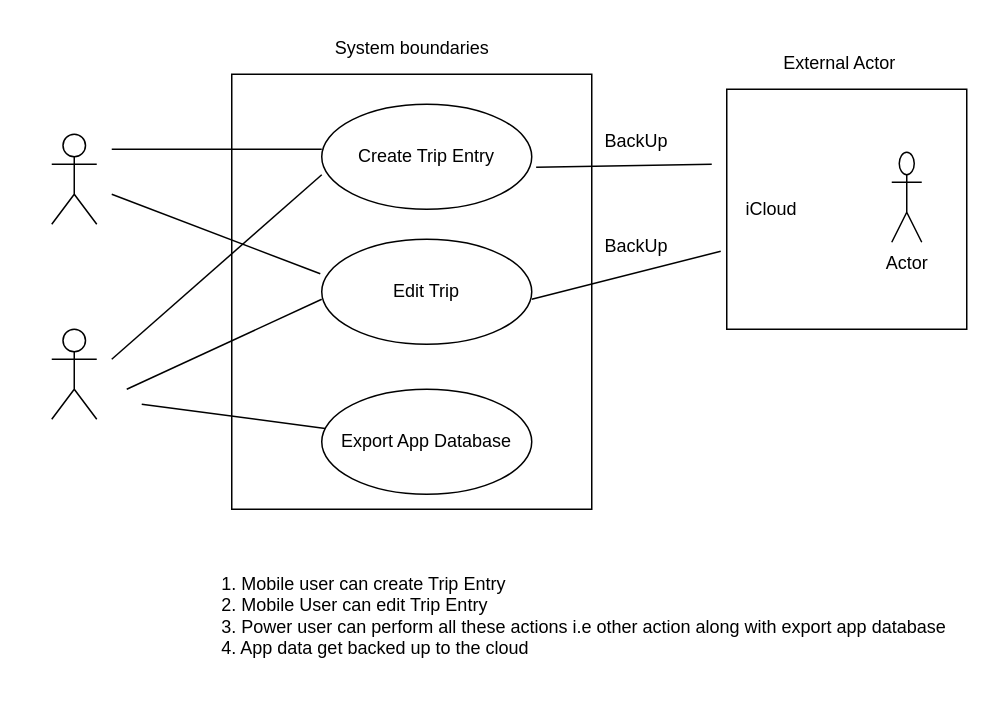
This 993x701 diagram has some shape labels left out. The shapes that lost their labels are listed below. From the top down, each one's box as (x1, y1, x2, y2) in pixels, then its label:
(50, 133, 97, 224): Mobile User
(50, 328, 97, 419): Power User
